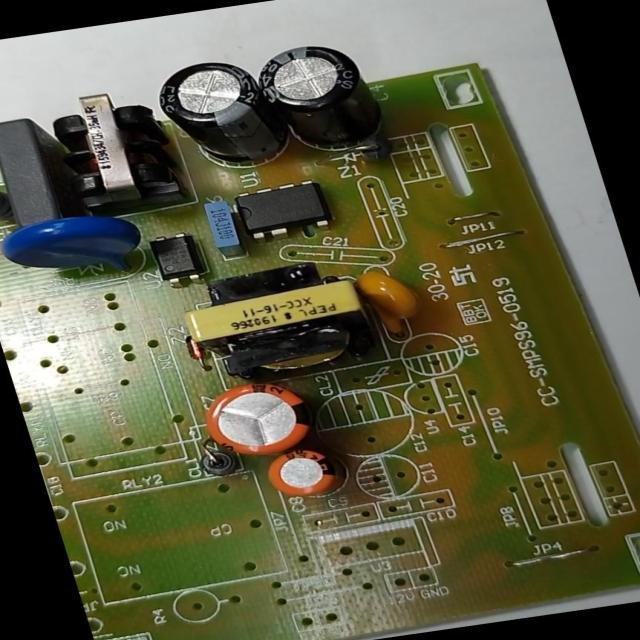Cap1: (186, 373, 322, 460)
Cap2: (260, 444, 344, 503)
Cap3: (142, 52, 288, 179)
Cap4: (248, 35, 390, 158)
MOSFET: (227, 178, 339, 241)
Mov: (0, 204, 155, 294)
Resistor: (0, 174, 13, 225)
Transformer: (169, 254, 385, 384), (36, 84, 183, 214)
